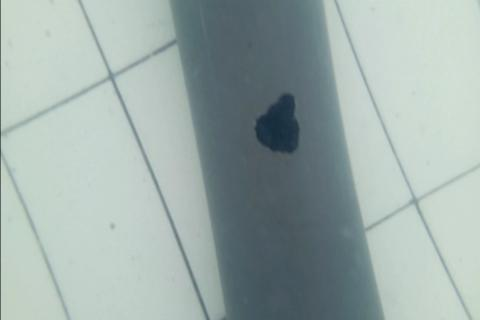kebocoran: (254, 89, 302, 155)
